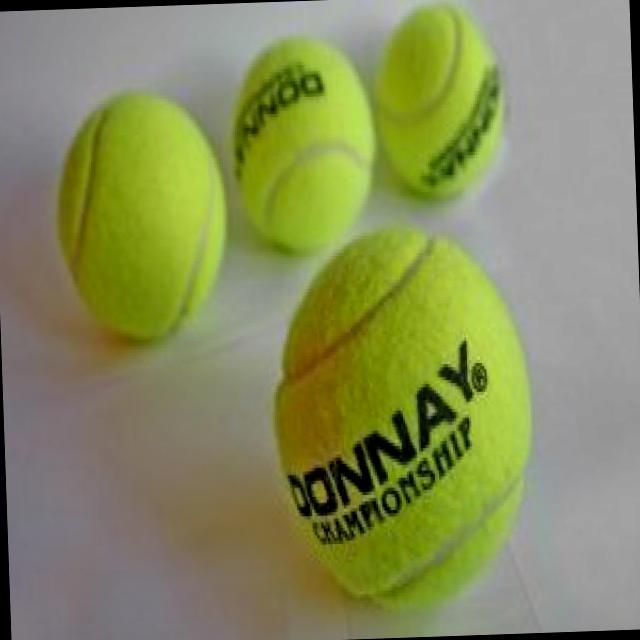Tennis Ball: (272, 227, 534, 615), (55, 89, 230, 346), (230, 36, 376, 257), (374, 0, 504, 203)
